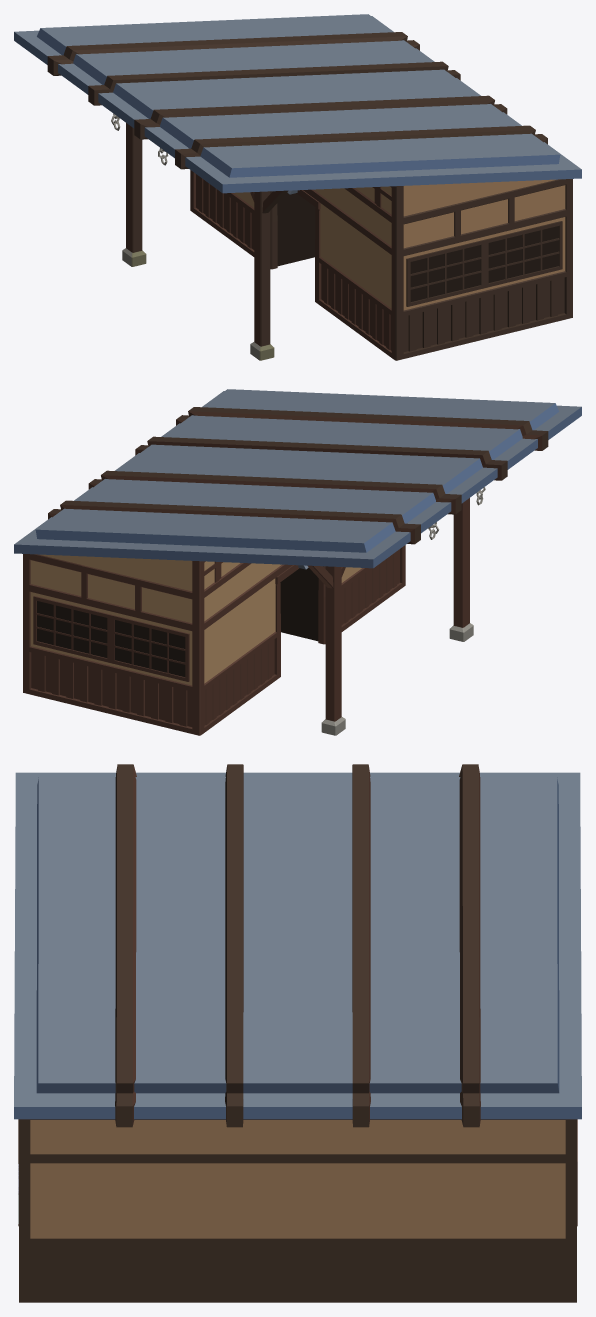
File: 3D_exterior_station_building.fbx
3 renders of one model, top to bottom at view 1: azimuth 30°, elevation 25°; view 2: azimuth 150°, elevation 25°; view 3: azimuth 270°, elevation 25°, orthographic. The views are drawn at different scales.
Visible parts, largest first — view 1: WoodCrevaces; view 2: WoodCrevaces; view 3: WoodCrevaces.
Part boxes in pixels (x1,y1,x2,y2): WoodCrevaces: (14,14,581,360); WoodCrevaces: (14,389,581,735); WoodCrevaces: (14,764,581,1302).
Size of the model in its own units: 10.85 by 6.48 by 10.75.
